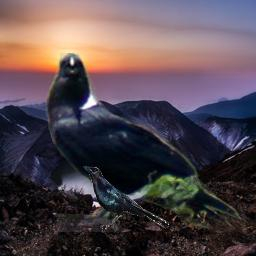Crow: (44, 53, 242, 232), (83, 166, 169, 233)
